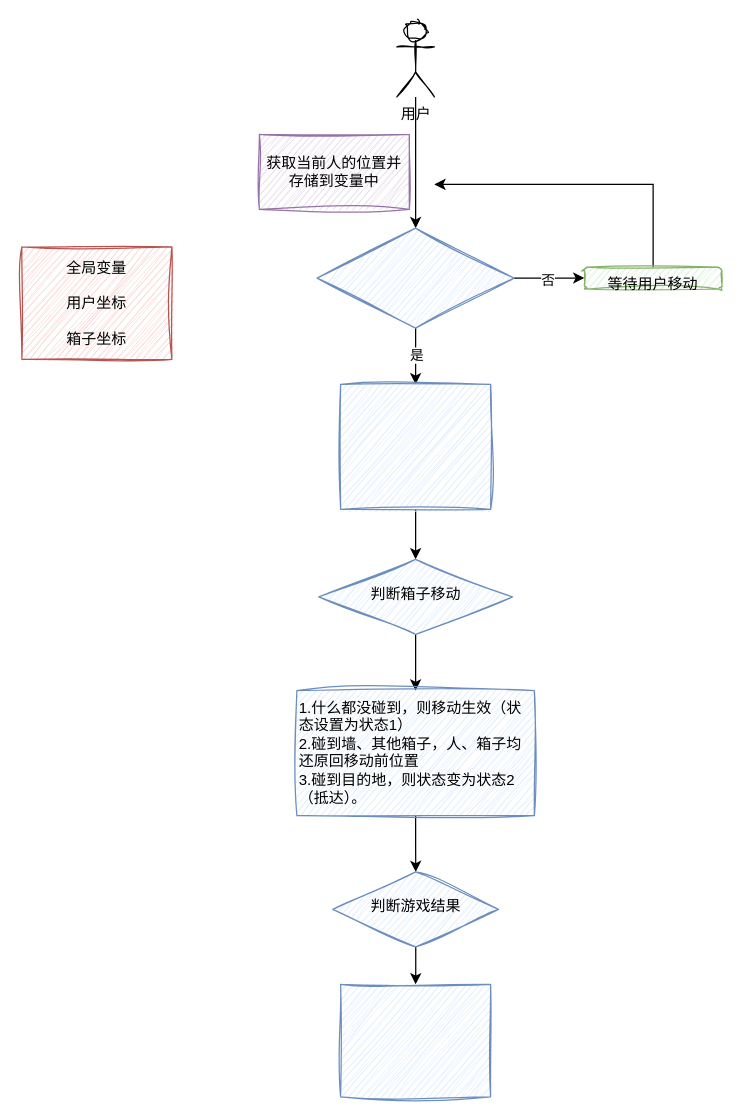
Some shapes in this 744 by 1119 pixel diagram are drawn without their labels. Each missing label, with the centre of its shape:
"1. 什么都没碰到，则移动生效 2. 碰到墙，还原回移动的位置 3. 碰到箱子，箱子跟随移动" goes at pixel 415 446.
"判断方向键设置人物移动" goes at pixel 415 277.
"如果箱子碰到目的地，改变状态后判断游戏是否结束。 即判断所有箱子是否都处于目的地。" goes at pixel 415 1040.
